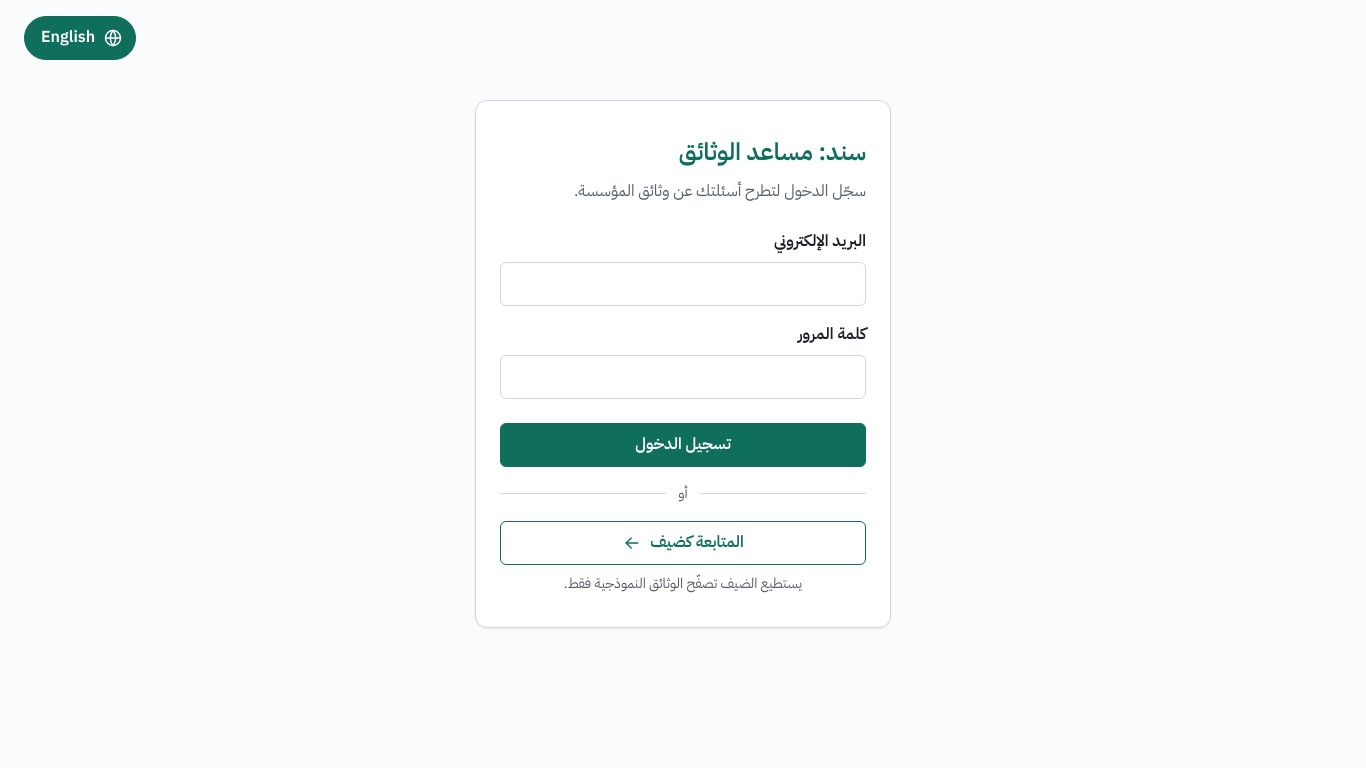
Test: login page › "Continue as guest" signs in as the guest and lands on Ask
What coordinates should you click on to do the following:
click the button "المتابعة كضيف"
I would click on:
 (683, 543)
Its box is [500,521,866,564].
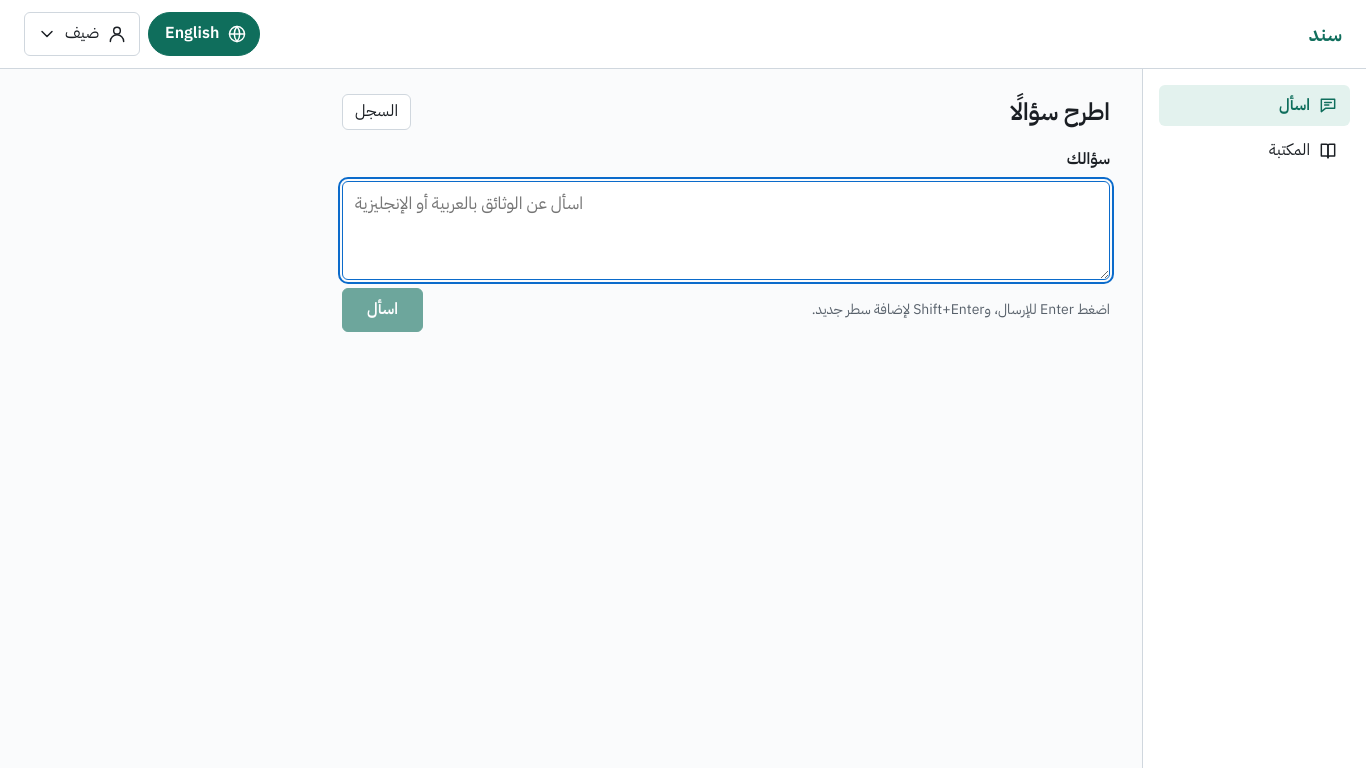
Result: the heading "اطرح سؤالًا" is shown at [1010,93,1110,131]
